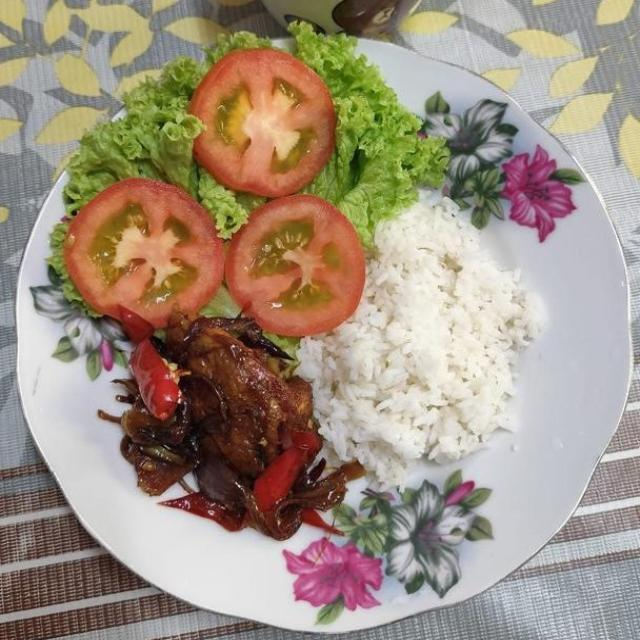Chicken: (106, 317, 357, 537)
Plate: (336, 181, 629, 628), (24, 190, 323, 619)
Rice: (301, 180, 552, 469)
Vegetables: (58, 25, 445, 358)
